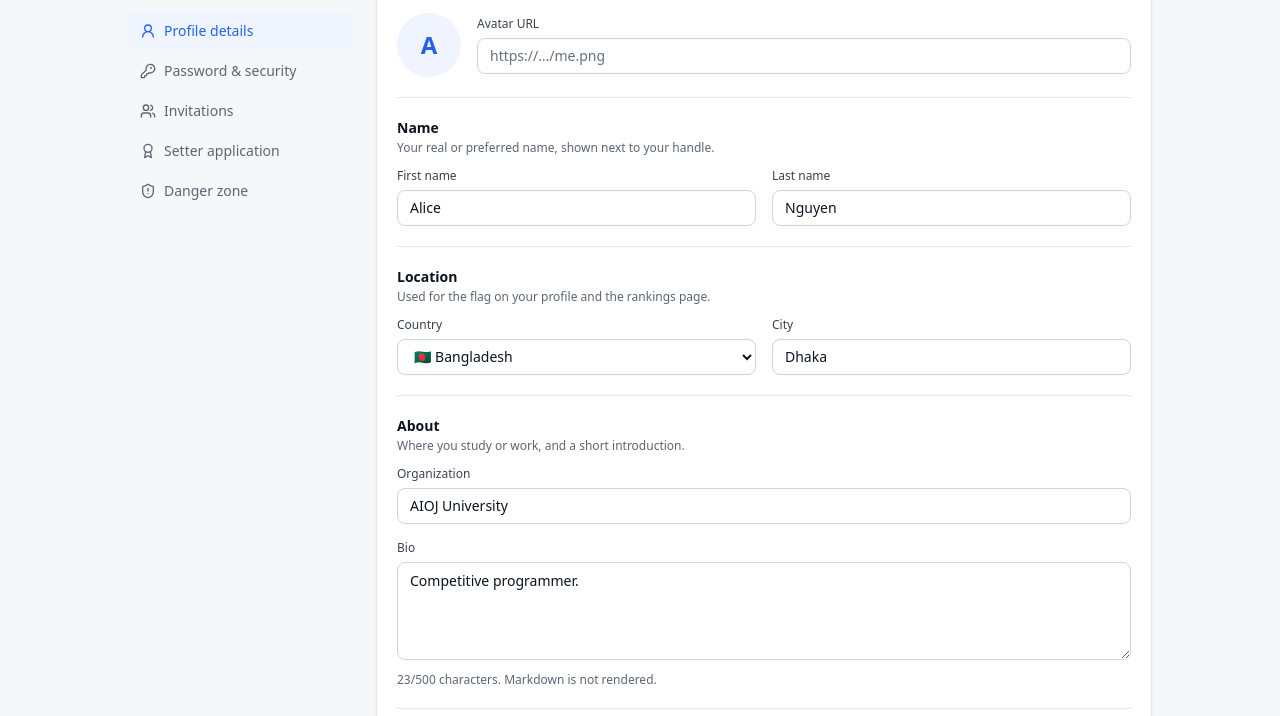
Test: saving sends trimmed values and reports success
This screenshot has width=1280, height=716.
(page scrolled)
Replace the text in the field labelled "City" with "  Chattogram  ". click: [952, 356]
box: [772,338,1131,374]
(page scrolled)
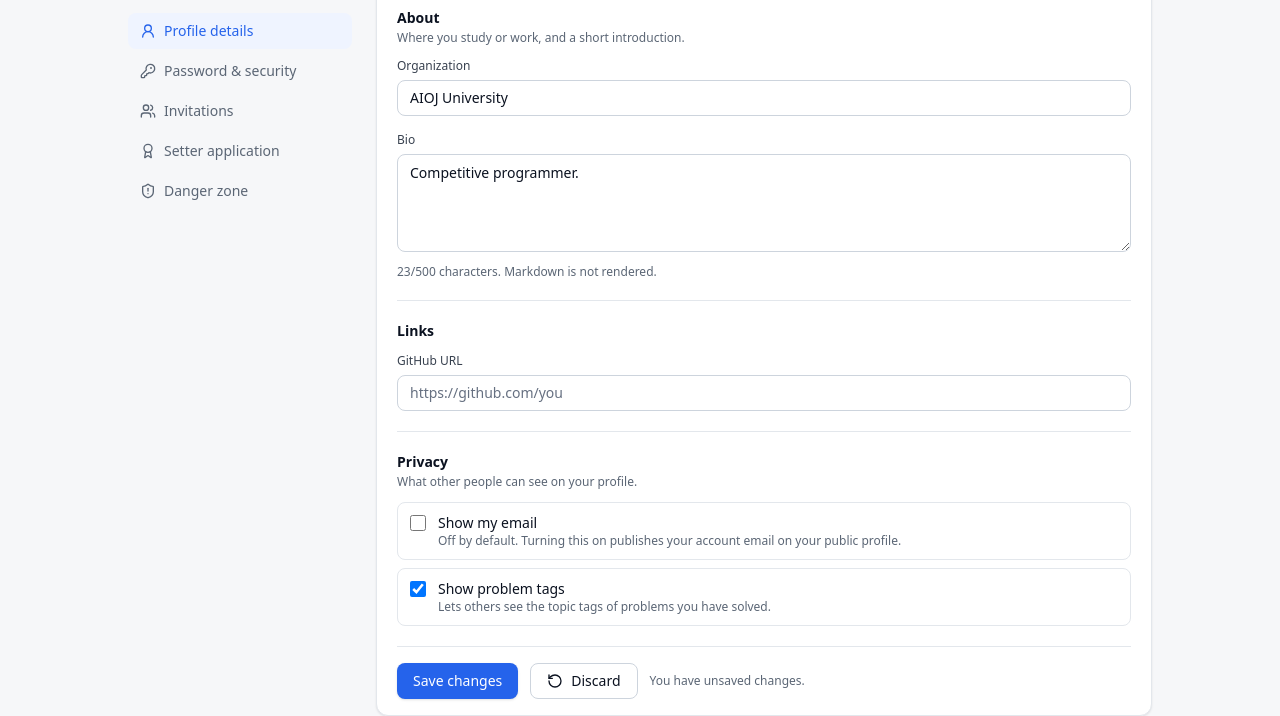
Click the button "Save changes". click: [458, 680]
box: [397,662,518,698]
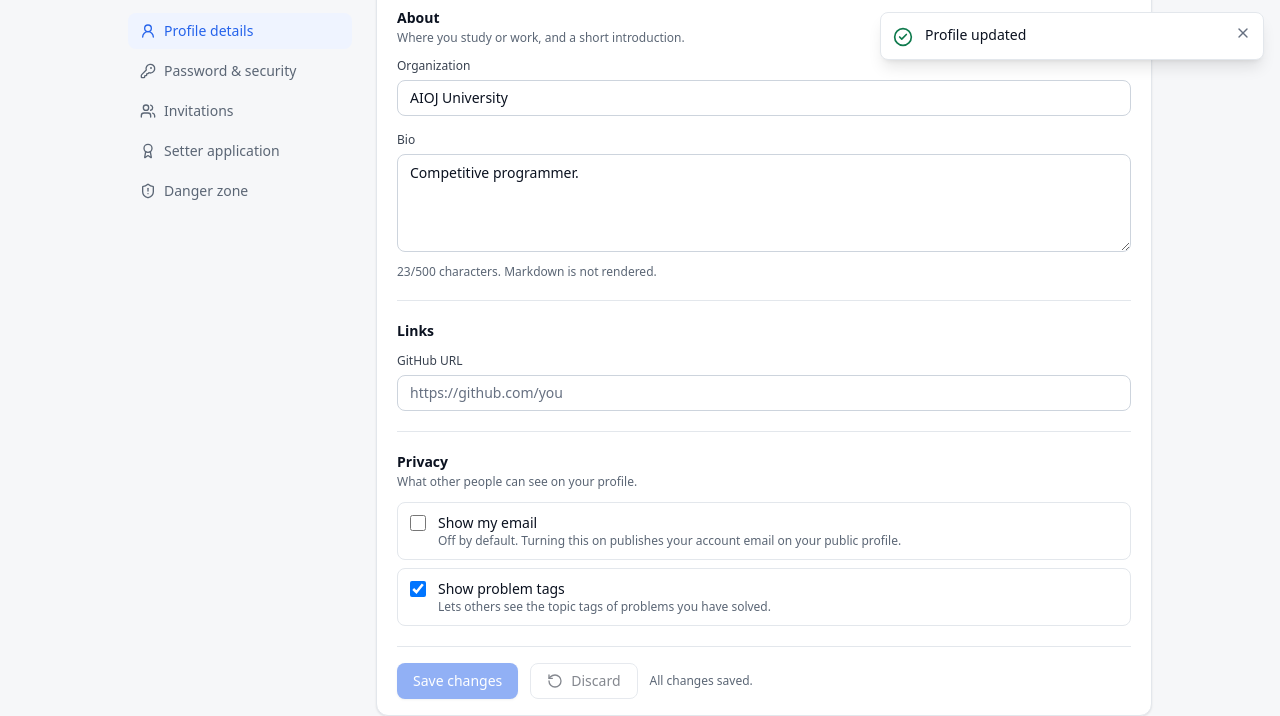
Now the text "Profile updated" is shown, box [925,25,1026,44]
Now the text "All changes saved." is shown, box [650,672,753,688]
